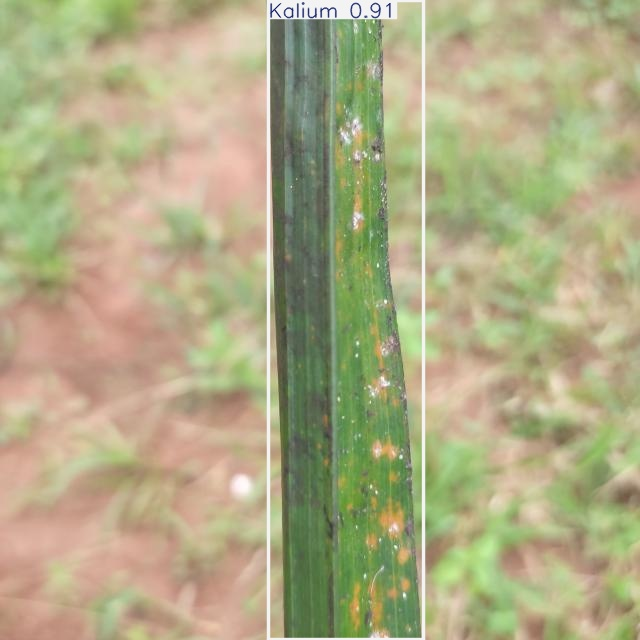Kalium: (268, 0, 423, 639)
